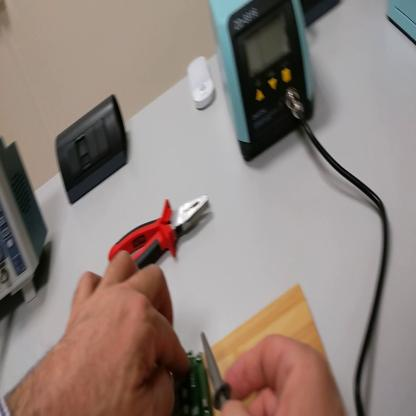hand: (10, 246, 192, 416), (224, 335, 345, 416)
low voltage board: (174, 351, 218, 416)
oscilloscope: (1, 121, 50, 309)
oscilloscope probe tip: (201, 330, 232, 412)
pliers: (110, 195, 212, 275)
socket: (302, 2, 344, 29)
welder base: (386, 2, 416, 48)
welder station: (211, 2, 316, 164)
working area: (200, 284, 332, 414)
